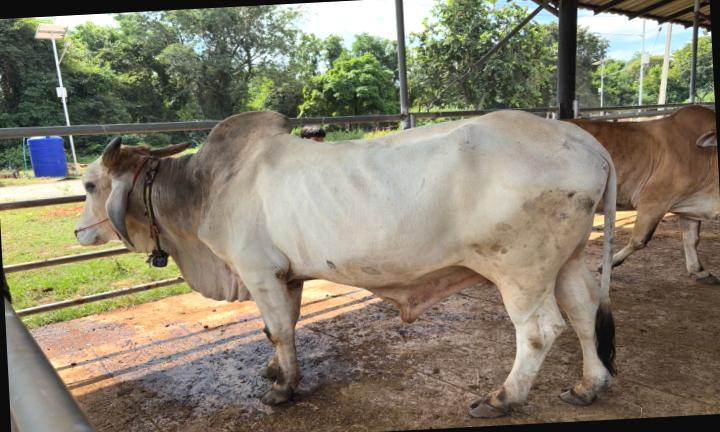Brahman: (76, 110, 615, 417)
